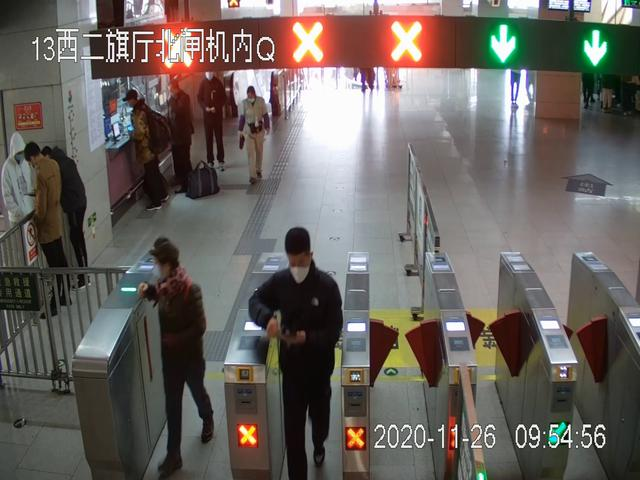person: (248, 226, 344, 479), (140, 237, 215, 473), (25, 141, 75, 318), (42, 144, 89, 289), (121, 87, 172, 213), (1, 130, 35, 293), (237, 86, 271, 185), (165, 80, 195, 192), (195, 71, 228, 172)
